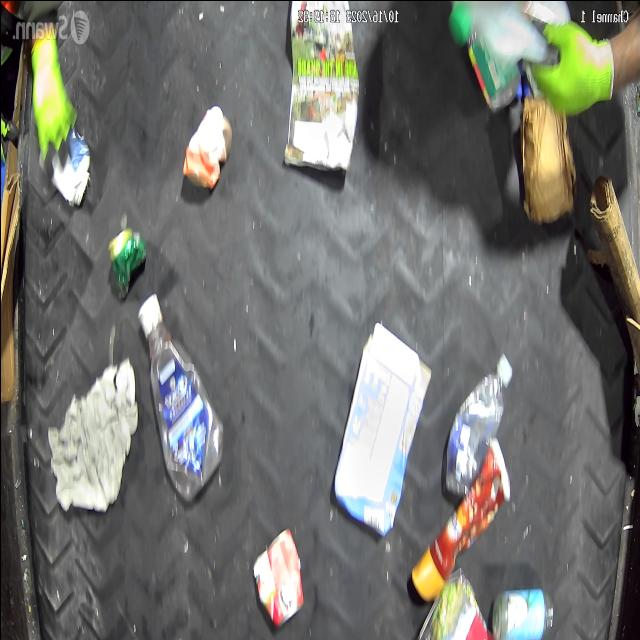can: (250, 525, 304, 627), (182, 105, 232, 193), (106, 225, 146, 298)
milk_jug: (330, 320, 432, 538)
plastic_bottle: (137, 292, 224, 502), (443, 351, 513, 496)
